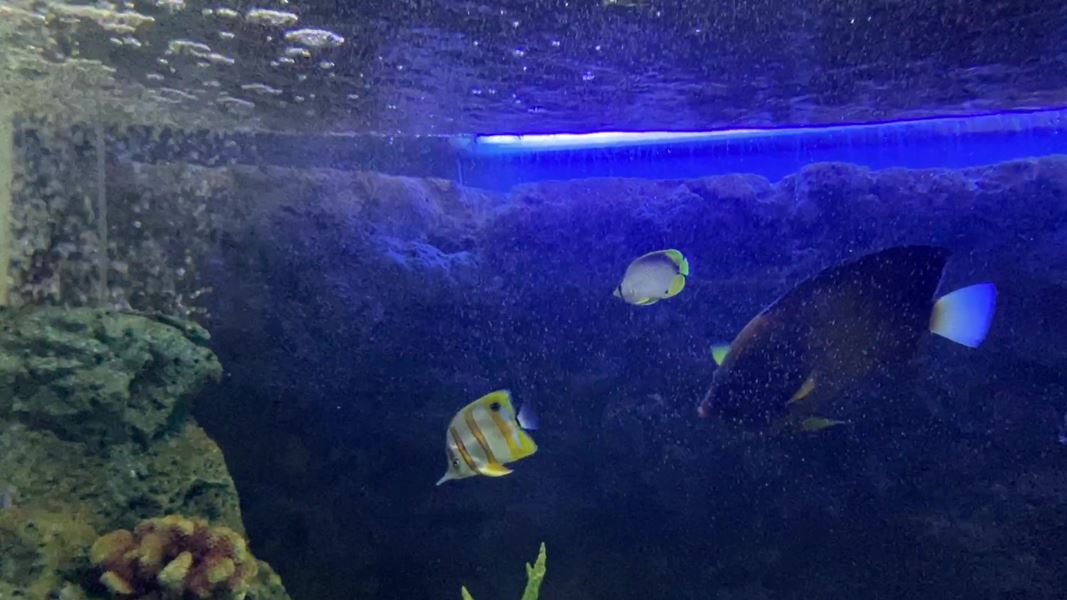Black-backed butterflyfish: (607, 243, 708, 314)
